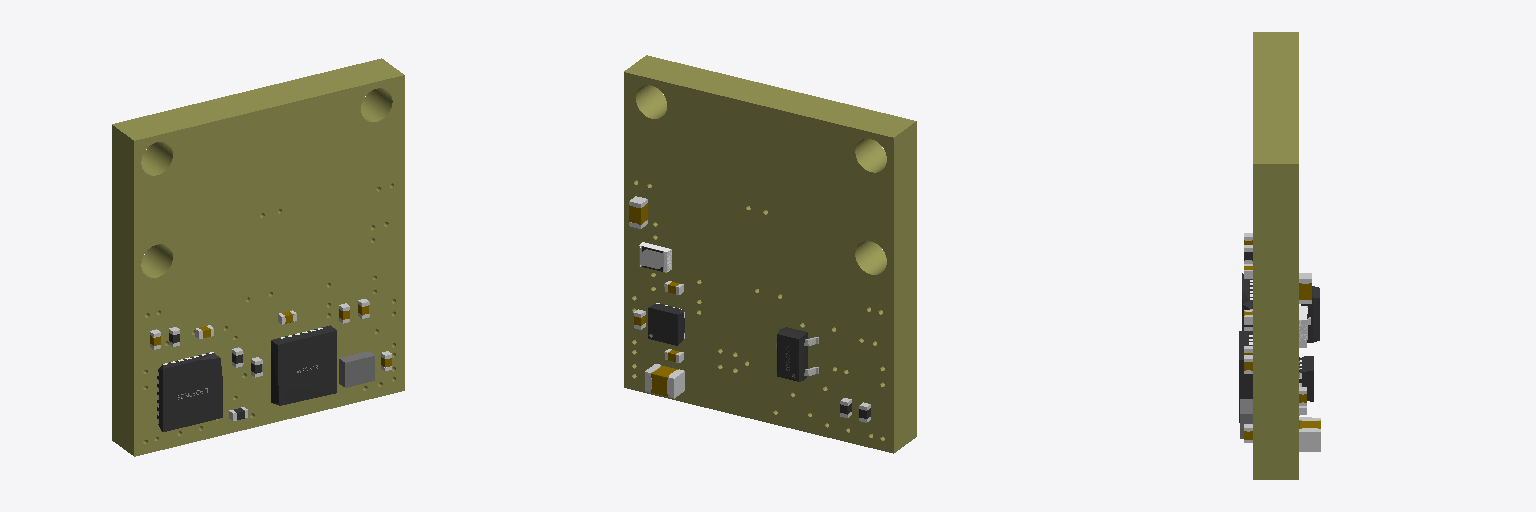
Rendered from 3D_PCB4_2023-05-16.obj.
The picture shows the model from 3 angles: view 1: azimuth 30°, elevation 25°; view 2: azimuth 150°, elevation 25°; view 3: azimuth 270°, elevation 25°; orthographic projection.
Bounding box in the file's own units: 17.97 × 20.07 × 4.74.